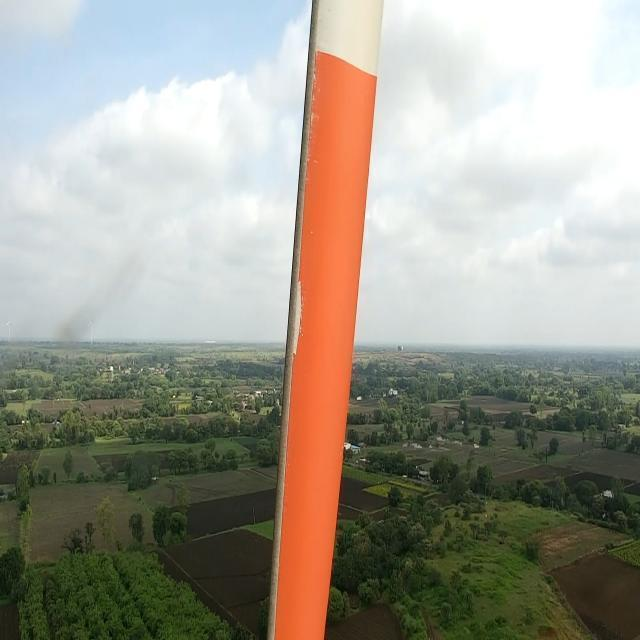PU-tape: (293, 282, 303, 355)
